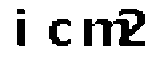2: (119, 5, 149, 51)
c: (45, 16, 74, 49)
i: (11, 8, 33, 51)
m: (81, 17, 129, 51)
